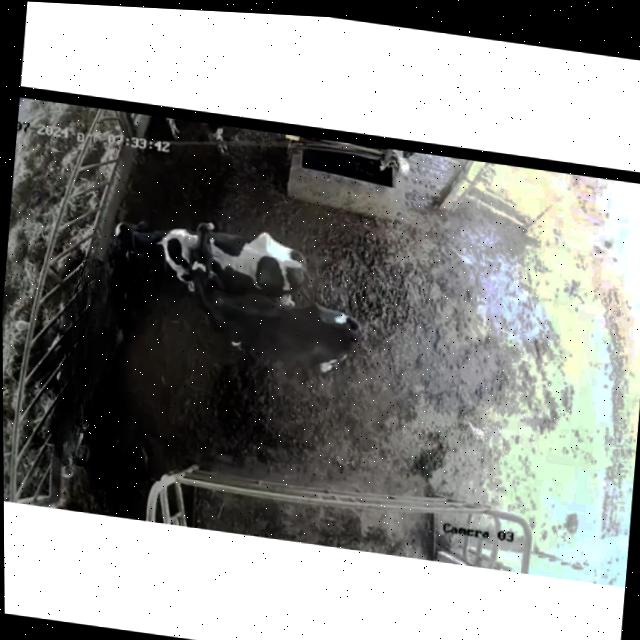propping: (168, 209, 237, 299)
